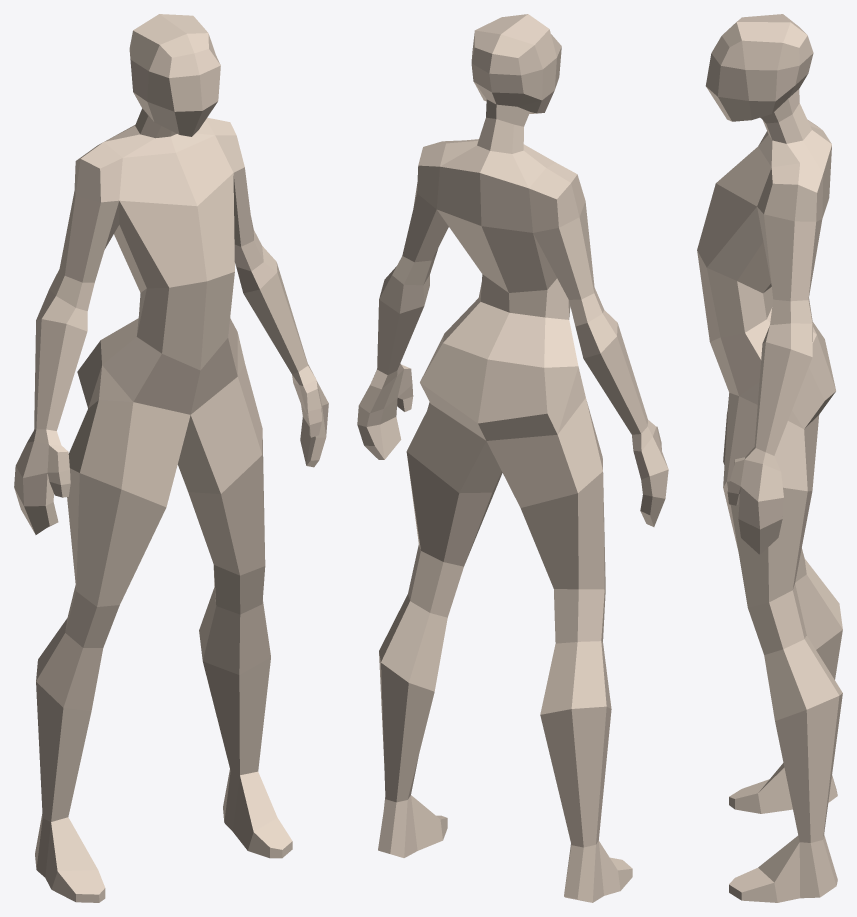
3 views of the same model, side by side, from view 1: azimuth 30°, elevation 25°; view 2: azimuth 150°, elevation 25°; view 3: azimuth 270°, elevation 25° (orthographic). The views are drawn at different scales.
Parts seen in each view (by area): view 1: Cube; view 2: Cube; view 3: Cube.
Boxes of the visible parts, x1,y1,x2,y2 form: Cube: (14,14,328,902); Cube: (357,14,668,902); Cube: (697,14,842,902).
Size of the model in its own units: 64.18 by 169 by 27.05.
